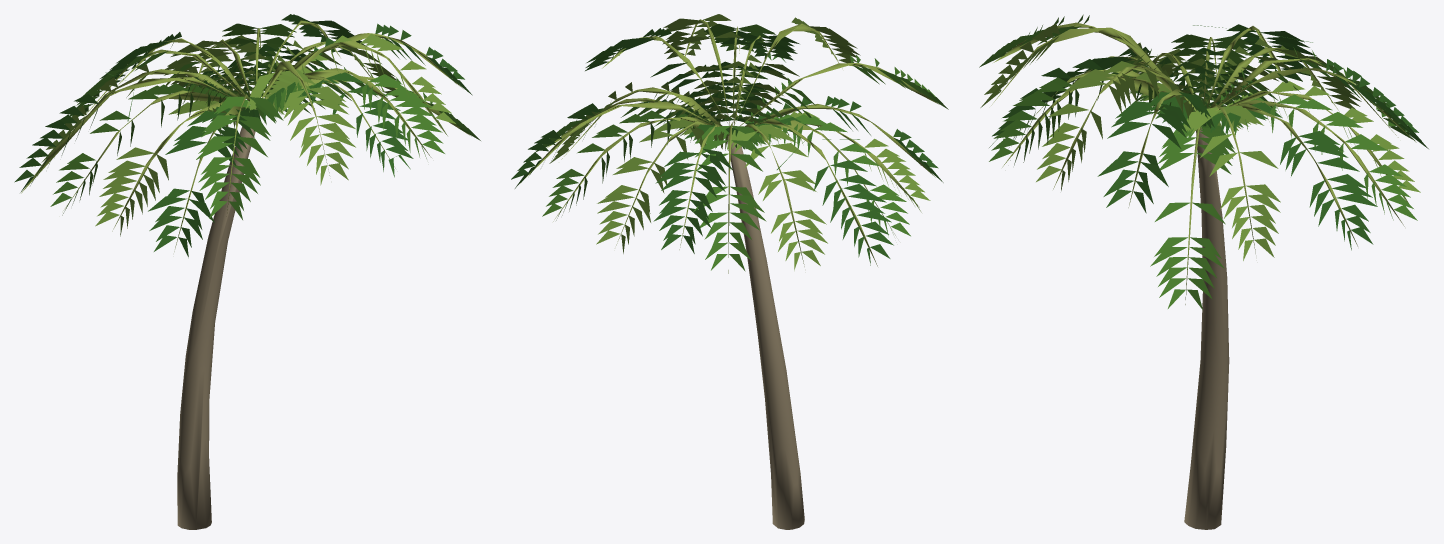
The model's file is CoconutPalm_A_LOD1.glb.
The picture shows the model from 3 angles, left to right: view 1: azimuth 30°, elevation 25°; view 2: azimuth 150°, elevation 25°; view 3: azimuth 270°, elevation 25°; orthographic projection. The views are drawn at different scales.
Parts seen in each view (by area): view 1: CoconutPalm_A_LOD1_Palm_LeafColor, CoconutPalm_A_LOD1_Palm_Bark_WarmGray, CoconutPalm_A_LOD1_Coconut_Frond_Stem; view 2: CoconutPalm_A_LOD1_Palm_LeafColor, CoconutPalm_A_LOD1_Palm_Bark_WarmGray, CoconutPalm_A_LOD1_Coconut_Frond_Stem; view 3: CoconutPalm_A_LOD1_Palm_LeafColor, CoconutPalm_A_LOD1_Palm_Bark_WarmGray, CoconutPalm_A_LOD1_Coconut_Frond_Stem.
Boxes of the visible parts, x1,y1,x2,y2 form: CoconutPalm_A_LOD1_Palm_LeafColor: [14, 14, 480, 257]; CoconutPalm_A_LOD1_Palm_Bark_WarmGray: [177, 109, 260, 529]; CoconutPalm_A_LOD1_Coconut_Frond_Stem: [21, 20, 471, 251]; CoconutPalm_A_LOD1_Palm_LeafColor: [511, 14, 948, 271]; CoconutPalm_A_LOD1_Palm_Bark_WarmGray: [727, 134, 804, 529]; CoconutPalm_A_LOD1_Coconut_Frond_Stem: [520, 19, 939, 273]; CoconutPalm_A_LOD1_Palm_LeafColor: [979, 14, 1428, 309]; CoconutPalm_A_LOD1_Palm_Bark_WarmGray: [1184, 128, 1229, 529]; CoconutPalm_A_LOD1_Coconut_Frond_Stem: [991, 22, 1416, 304].
Size of the model in its own units: 8.91 by 9.9 by 7.73.
